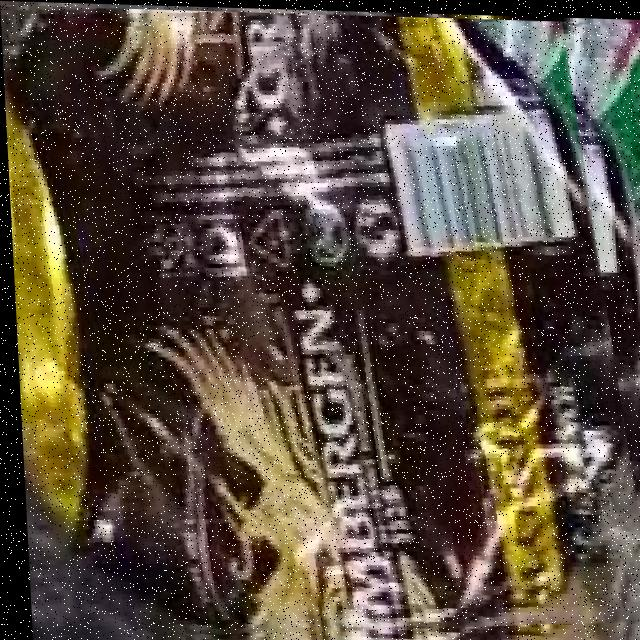litter: (3, 6, 620, 634)
